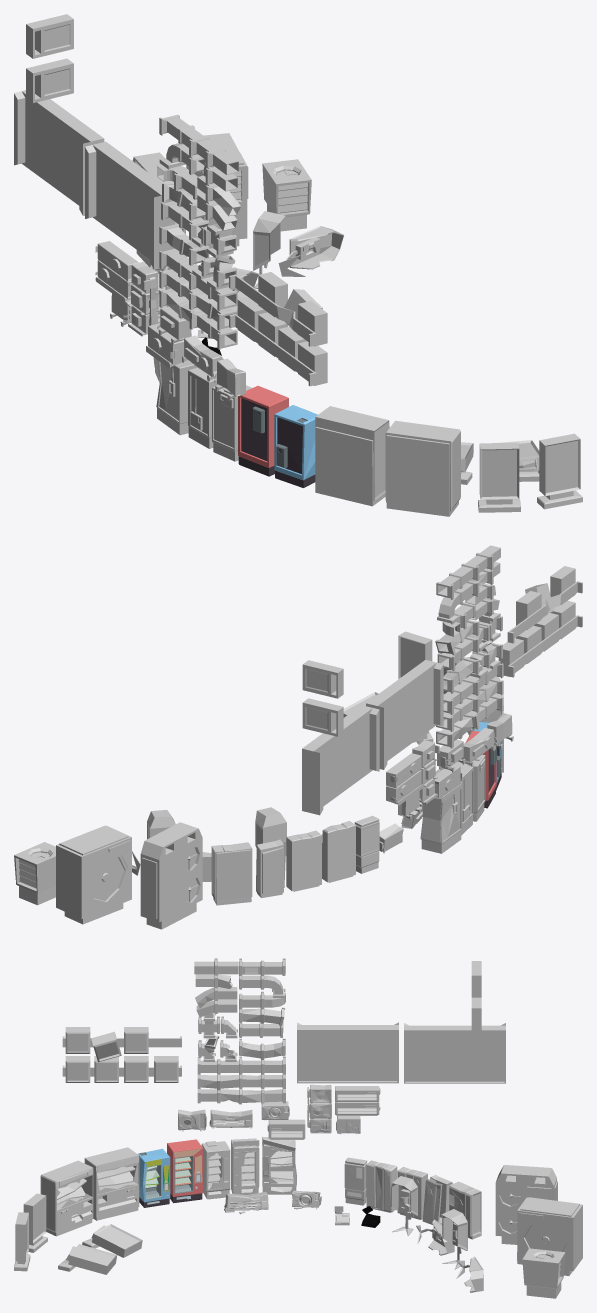
File: Proop3.fbx
3 renders of one model, top to bottom at view 1: azimuth 30°, elevation 25°; view 2: azimuth 150°, elevation 25°; view 3: azimuth 270°, elevation 25°, orthographic. The views are drawn at different scales.
Visible parts, largest first — view 1: signboard 2, 7 vending machine, 6 vending machine, signboard 2.RC, signboard 3, signboard 3.RC, 3 vending machine, 5 vending machine, street stand 1, street stand 1.RC, air conditioner in rouf, 4 vending machine (+29 smaller); view 2: air conditioner in rouf 3, air conditioner in rouf 2, signboard 2.RC, signboard 2, signboard 3, Electrical panels 1, signboard 3.RC, air conditioner in rouf, 4 vending machine, Electrical panels 3, Electrical panels 4, Electrical panels 2 (+26 smaller); view 3: signboard 2, signboard 2.RC, air conditioner in rouf 3, 7 vending machine, 6 vending machine, air conditioner in rouf 2, signboard 3, signboard 3.RC, 3 vending machine, 4 vending machine, air conditioner in rouf, 5 vending machine (+38 smaller).
Part boxes in pixels (x1,y1,x2,y2): signboard 2: [85, 141, 174, 269]; 7 vending machine: [385, 420, 460, 516]; 6 vending machine: [315, 406, 389, 506]; signboard 2.RC: [14, 90, 104, 215]; signboard 3: [229, 297, 327, 386]; signboard 3.RC: [229, 272, 327, 346]; 3 vending machine: [238, 385, 288, 476]; 5 vending machine: [274, 405, 317, 487]; street stand 1: [537, 433, 582, 509]; street stand 1.RC: [478, 442, 520, 512]; air conditioner in rouf: [262, 159, 311, 231]; 4 vending machine: [156, 360, 197, 435]; air conditioner in rouf 3: [56, 825, 131, 924]; air conditioner in rouf 2: [140, 822, 202, 929]; signboard 2.RC: [302, 705, 379, 815]; signboard 2: [366, 660, 443, 769]; signboard 3: [498, 600, 582, 677]; Electrical panels 1: [211, 842, 252, 905]; signboard 3.RC: [507, 566, 582, 643]; air conditioner in rouf: [14, 842, 55, 905]; 4 vending machine: [420, 769, 461, 853]; Electrical panels 3: [286, 830, 321, 891]; Electrical panels 4: [322, 821, 355, 882]; Electrical panels 2: [256, 839, 286, 897]; signboard 2: [297, 1022, 398, 1083]; signboard 2.RC: [404, 1023, 505, 1083]; air conditioner in rouf 3: [517, 1197, 582, 1275]; 7 vending machine: [40, 1160, 93, 1236]; 6 vending machine: [84, 1147, 139, 1220]; air conditioner in rouf 2: [495, 1165, 557, 1244]; signboard 3: [62, 1056, 181, 1082]; signboard 3.RC: [62, 1027, 181, 1062]; 3 vending machine: [167, 1139, 202, 1203]; 4 vending machine: [262, 1137, 296, 1194]; air conditioner in rouf: [522, 1248, 565, 1298]; 5 vending machine: [138, 1148, 170, 1207].
Bounding box in the file's own units: 943 × 851 × 1932.
Materials: 3 (1 with a texture image).
